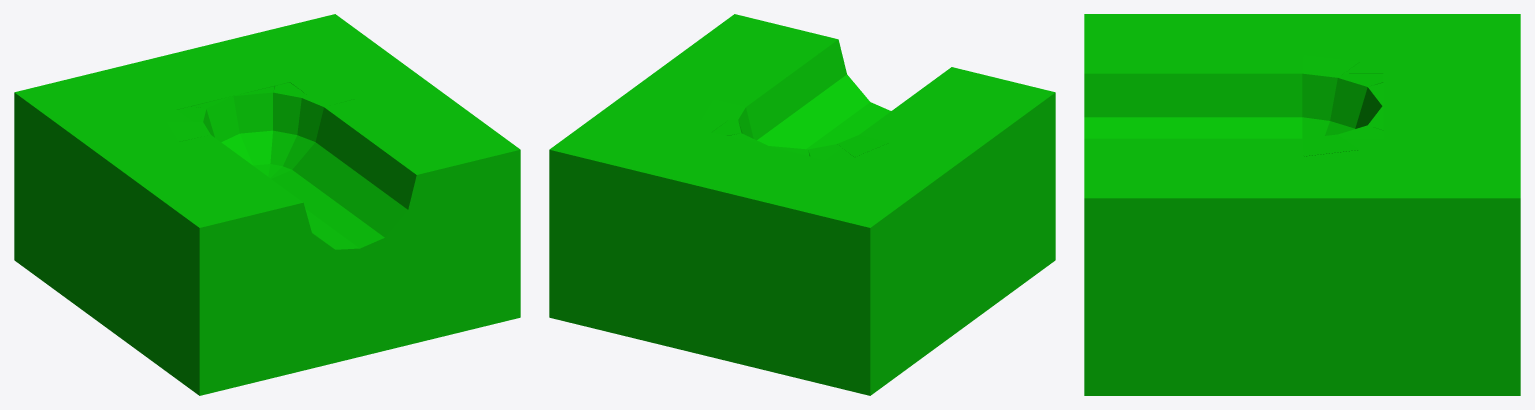
File: UCXKugelbahn.38.fbx
3 renders of one model, left to right at view 1: azimuth 30°, elevation 25°; view 2: azimuth 150°, elevation 25°; view 3: azimuth 270°, elevation 25°, orthographic. The views are drawn at different scales.
Parts seen in each view (by area): view 1: UCX_Kugelbahn.38_low; view 2: UCX_Kugelbahn.38_low; view 3: UCX_Kugelbahn.38_low.
Part boxes in pixels (box(x1,y1,x2,y2)): UCX_Kugelbahn.38_low: box(14, 14, 520, 395); UCX_Kugelbahn.38_low: box(549, 14, 1055, 395); UCX_Kugelbahn.38_low: box(1084, 14, 1520, 395).
Bounding box in the file's own units: 0.05 × 0.025 × 0.05.
